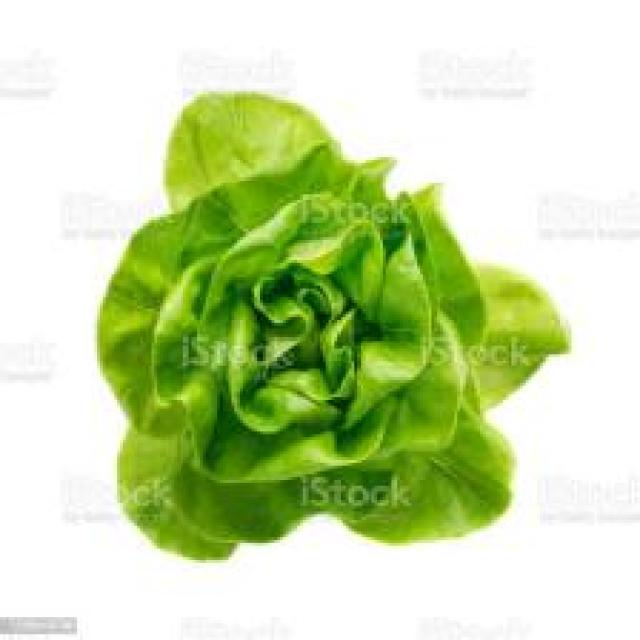Lettuce: (96, 86, 570, 564)
